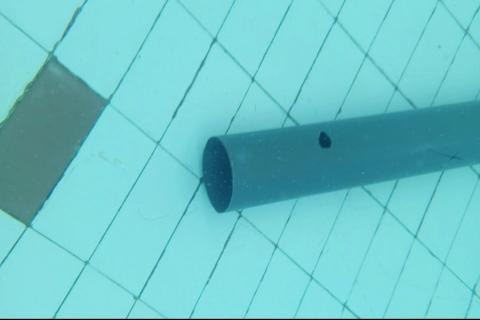kebocoran: (318, 129, 331, 150)
keretakan: (427, 148, 466, 163)
